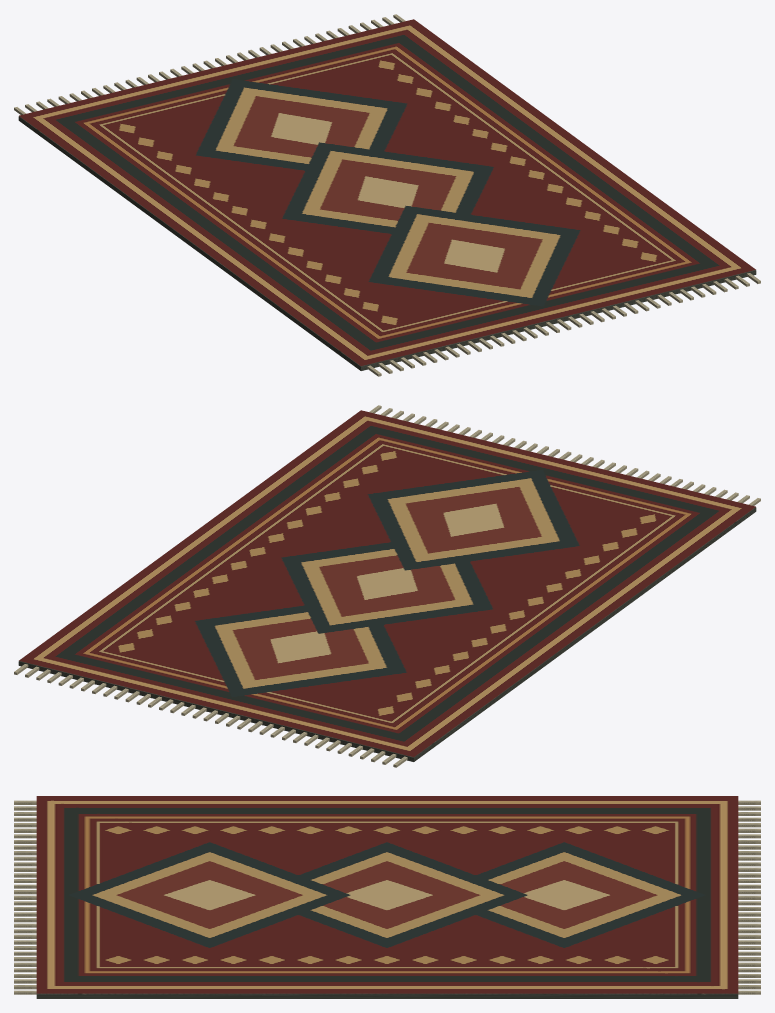
File: CIS_Rug.obj
3 views of the same model, one above another, from view 1: azimuth 30°, elevation 25°; view 2: azimuth 150°, elevation 25°; view 3: azimuth 270°, elevation 25° (orthographic). The views are drawn at different scales.
Visible parts, largest first — view 1: CIS_Rug; view 2: CIS_Rug; view 3: CIS_Rug.
Part boxes in pixels (<box>): CIS_Rug: <box>14,14,760,376</box>; CIS_Rug: <box>14,405,760,767</box>; CIS_Rug: <box>14,796,760,998</box>.
Bounding box in the file's own units: 1.5 × 0.018 × 2.39.
3 materials, 3 textured.
